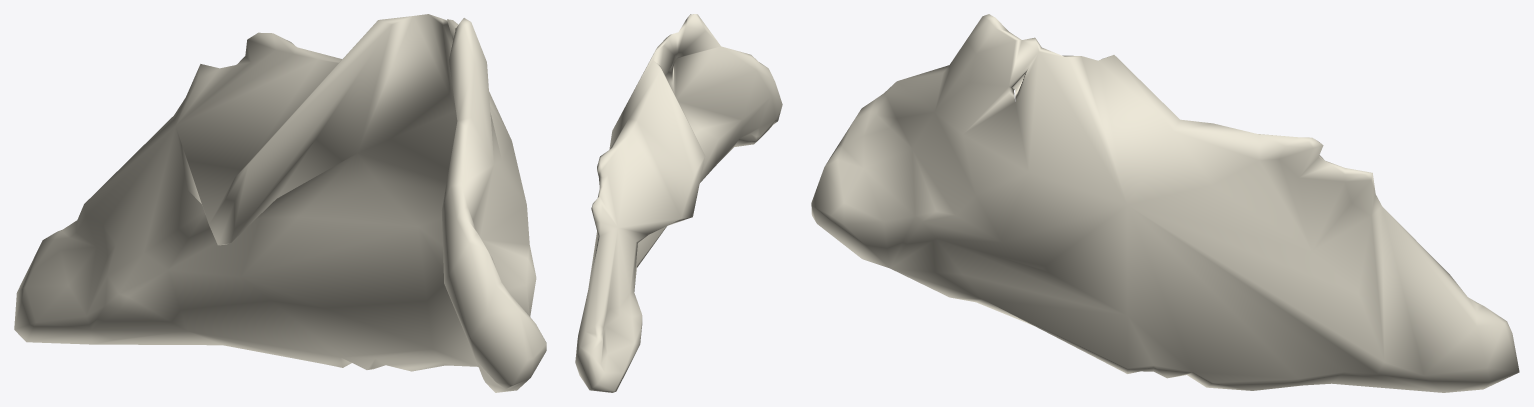
The picture shows the model from 3 angles, left to right: view 1: azimuth 30°, elevation 25°; view 2: azimuth 150°, elevation 25°; view 3: azimuth 270°, elevation 25°; orthographic projection. The views are drawn at different scales.
Parts seen in each view (by area): view 1: ZA_ffe676dbde55f856; view 2: ZA_ffe676dbde55f856; view 3: ZA_ffe676dbde55f856.
Part boxes in pixels (box(x1,y1,x2,y2)): ZA_ffe676dbde55f856: box(14, 14, 546, 392); ZA_ffe676dbde55f856: box(575, 14, 782, 392); ZA_ffe676dbde55f856: box(811, 14, 1519, 392).
Size of the model in its own units: 0.0105 by 0.0225 by 0.0346.
